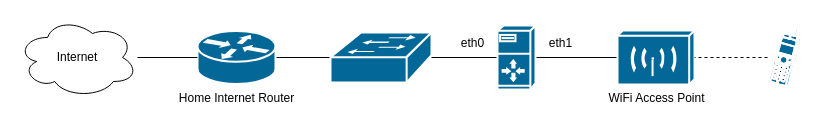
The diagram is 820 pixels wide and 128 high, and some of its shapes have lost their labels. The centre of each missing label's shape, as x and y in pixels:
"Home L2 Switch" belongs at point 380,57.
"Raspberr Pi4" belongs at point 516,57.
